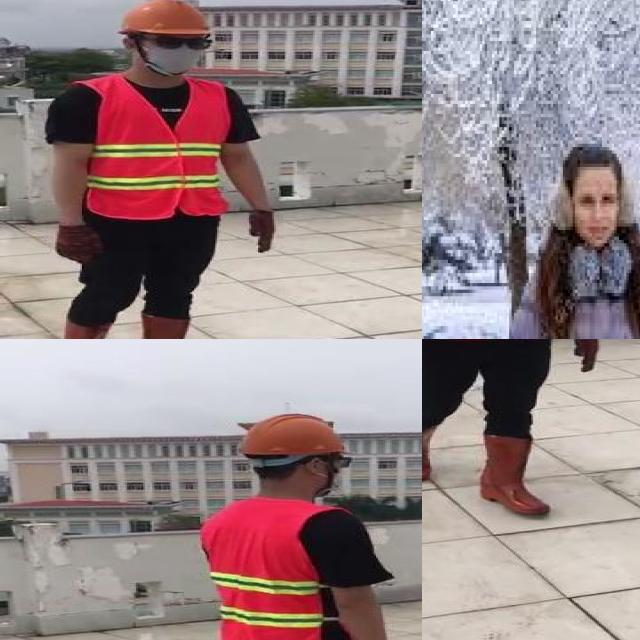Ear-protection: (543, 174, 575, 230), (612, 164, 636, 226)
boots: (480, 434, 549, 516), (135, 311, 208, 339), (57, 315, 105, 339), (422, 420, 433, 483)
face_mask: (140, 34, 209, 75)
glasses: (150, 32, 214, 52)
hand_glove: (52, 224, 100, 263), (249, 211, 278, 252), (574, 339, 597, 373)
head_helmet: (234, 411, 351, 459), (114, 0, 213, 38)
person: (36, 0, 280, 339), (187, 406, 408, 640), (422, 339, 607, 522), (512, 147, 640, 339)
vest: (200, 496, 342, 640), (84, 76, 226, 218)
